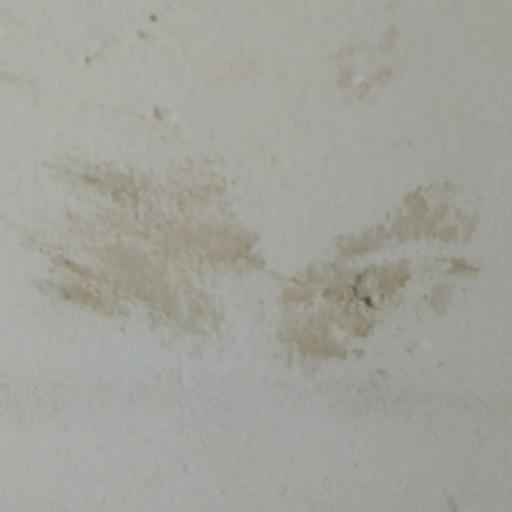stain: (32, 105, 273, 374), (261, 186, 489, 368), (329, 14, 422, 111)
